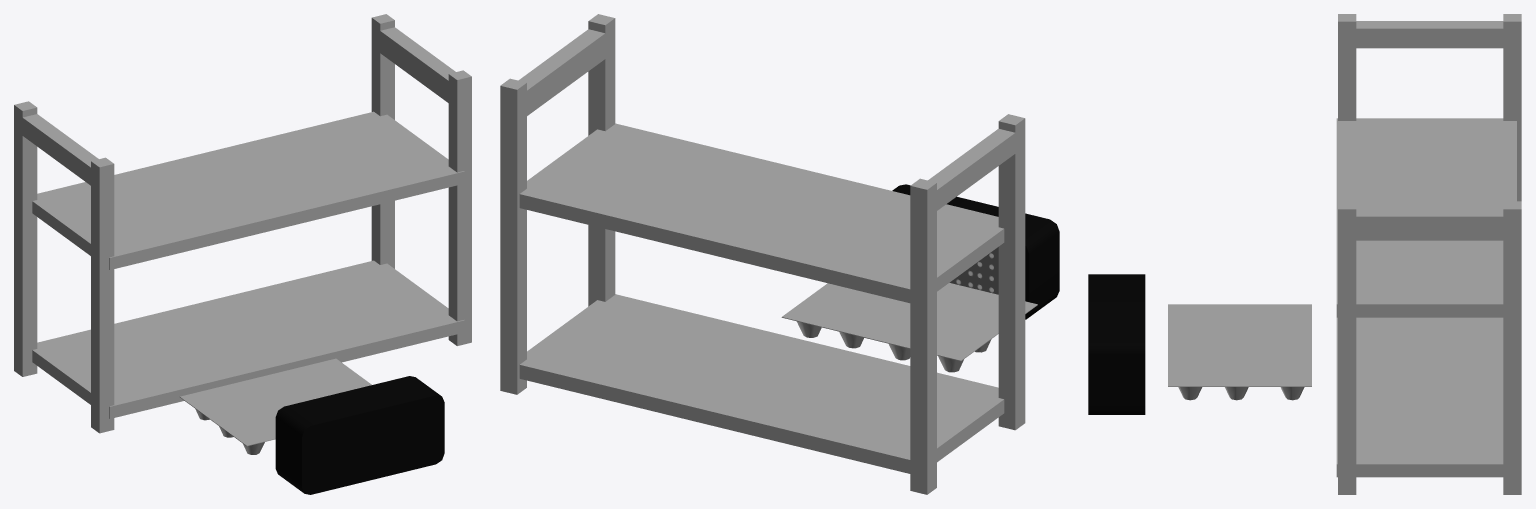
File: accest.fbx
The picture shows the model from 3 angles, left to right: view 1: azimuth 30°, elevation 25°; view 2: azimuth 150°, elevation 25°; view 3: azimuth 270°, elevation 25°; orthographic projection. The views are drawn at different scales.
Parts seen in each view (by area): view 1: Farming_Racks, LED_Grow_Lights, Seedling_trays; view 2: Farming_Racks, Seedling_trays, LED_Grow_Lights; view 3: Farming_Racks, Seedling_trays, LED_Grow_Lights.
Boxes of the visible parts, <box> form: Farming_Racks: <box>14,14,471,433</box>; LED_Grow_Lights: <box>275,376,444,494</box>; Seedling_trays: <box>180,358,371,454</box>; Farming_Racks: <box>500,14,1025,494</box>; Seedling_trays: <box>781,283,1037,372</box>; LED_Grow_Lights: <box>892,184,1059,319</box>; Farming_Racks: <box>1336,14,1521,494</box>; Seedling_trays: <box>1168,304,1311,400</box>; LED_Grow_Lights: <box>1088,274,1145,414</box>.
Size of the model in its own units: 810 by 553 by 760.
Materials: 3 (1 with a texture image).
